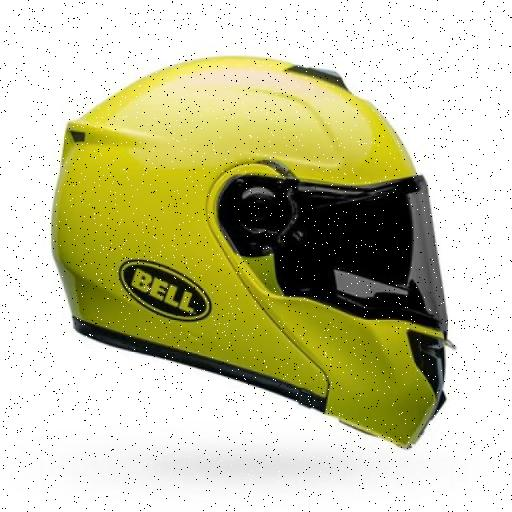Motor: (50, 36, 454, 458)
